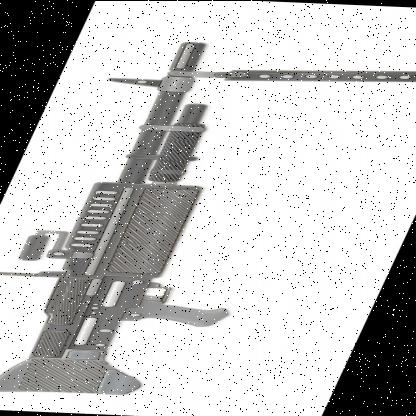rifle: (0, 32, 361, 407)
